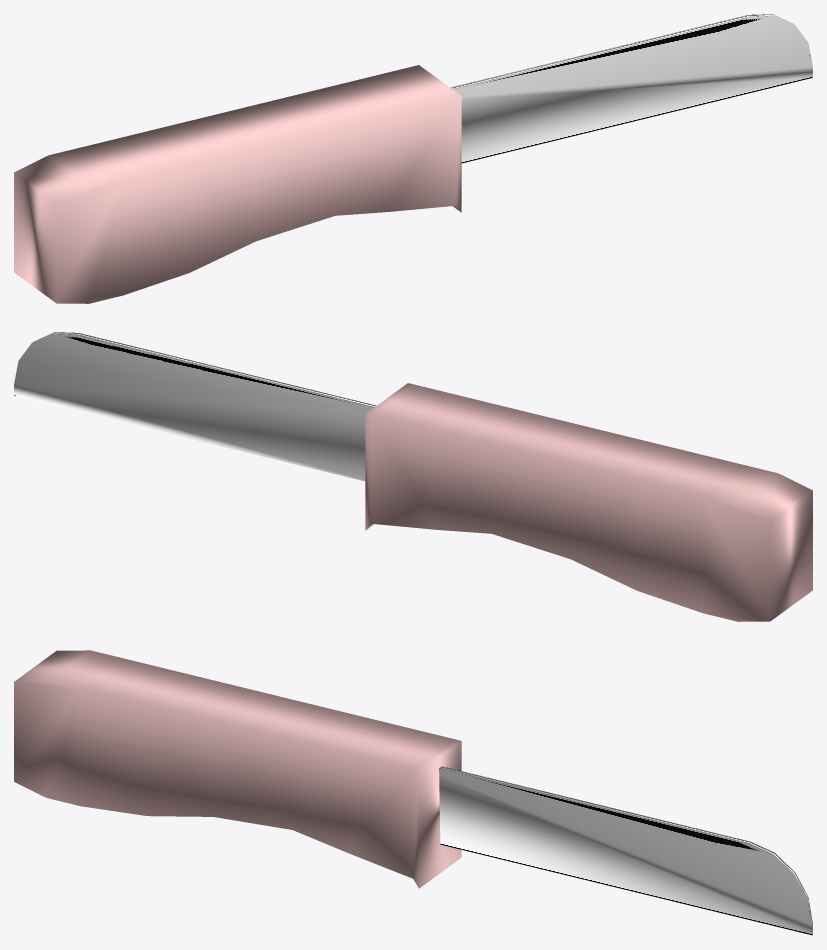
Rendered from knife.glb.
3 renders of one model, top to bottom at view 1: azimuth 30°, elevation 25°; view 2: azimuth 150°, elevation 25°; view 3: azimuth 330°, elevation 25°, orthographic.
Visible parts, largest first — view 1: handle, blade; view 2: handle, blade; view 3: handle, blade.
Part boxes in pixels (<box>): handle: <box>14,65,461,303</box>; blade: <box>450,14,812,163</box>; handle: <box>365,383,812,621</box>; blade: <box>14,332,376,481</box>; handle: <box>14,650,461,888</box>; blade: <box>439,766,812,935</box>.
Bounding box in the file's own units: 13.94 × 2 × 1.33.
2 materials, 2 textured.
